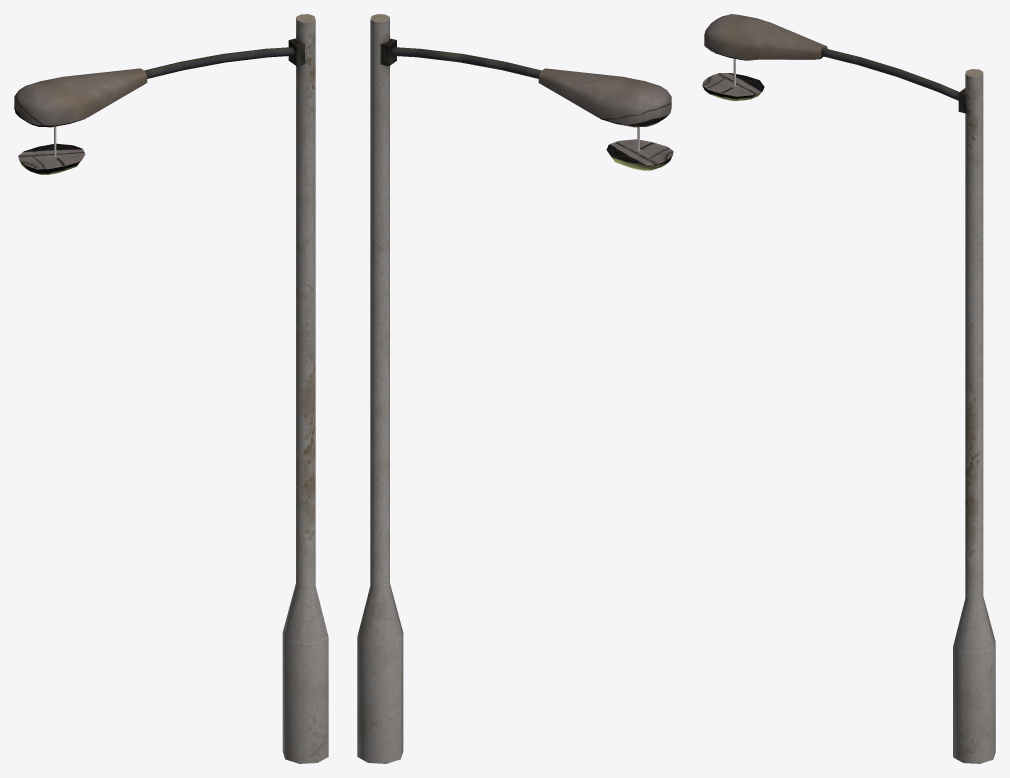
Rendered from stLight.fbx.
3 views of the same model, side by side, from view 1: azimuth 30°, elevation 25°; view 2: azimuth 150°, elevation 25°; view 3: azimuth 330°, elevation 25° (orthographic). The views are drawn at different scales.
Parts seen in each view (by area): view 1: polySurface7, polySurface14; view 2: polySurface7, polySurface14; view 3: polySurface7, polySurface14.
Boxes of the visible parts, x1,y1,x2,y2 form: polySurface7: [14, 14, 328, 763]; polySurface14: [18, 143, 85, 174]; polySurface7: [357, 14, 671, 763]; polySurface14: [606, 139, 673, 170]; polySurface7: [704, 14, 995, 763]; polySurface14: [702, 73, 764, 100].
Bounding box in the file's own units: 907 × 2085 × 177.
